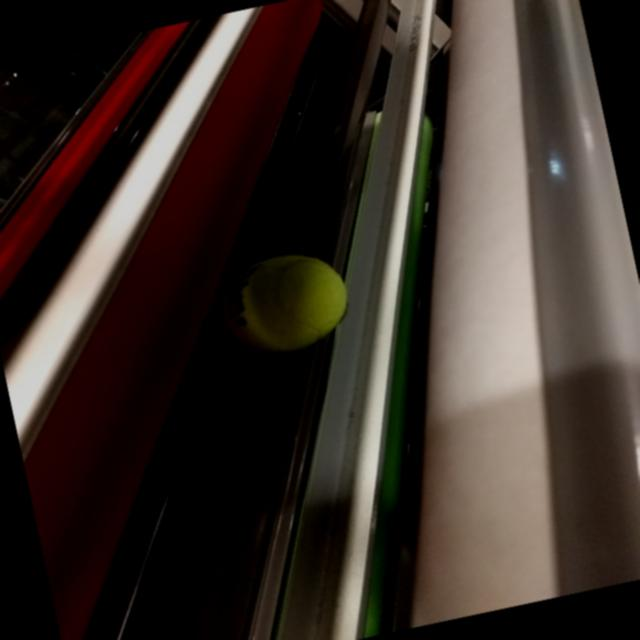tennis-ball: (212, 241, 356, 363)
